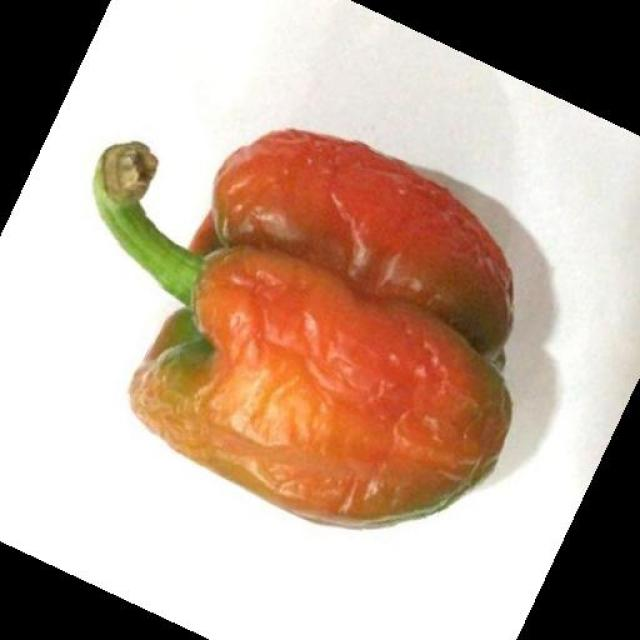Stale_Capsicum: (82, 89, 516, 530)
